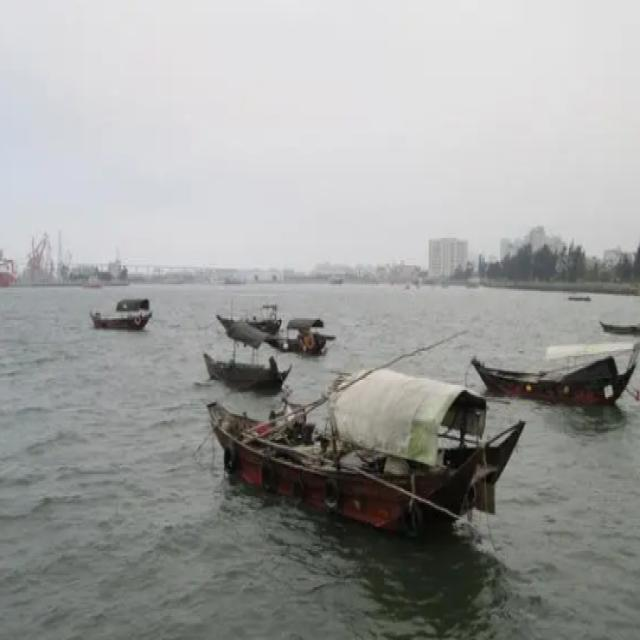fishing boat: (196, 342, 510, 534), (470, 325, 640, 405), (203, 317, 280, 388), (212, 282, 282, 336), (275, 301, 332, 362), (90, 282, 153, 332), (598, 311, 640, 333)
